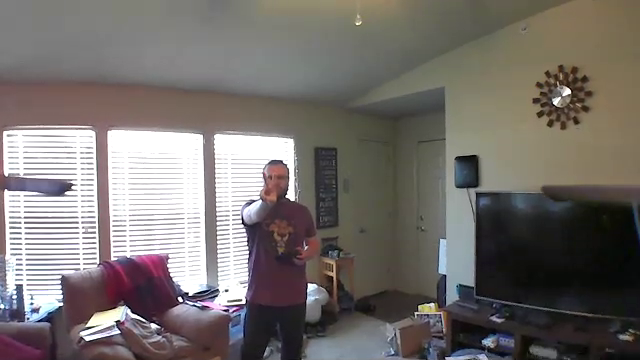peace: (257, 166, 280, 207)
